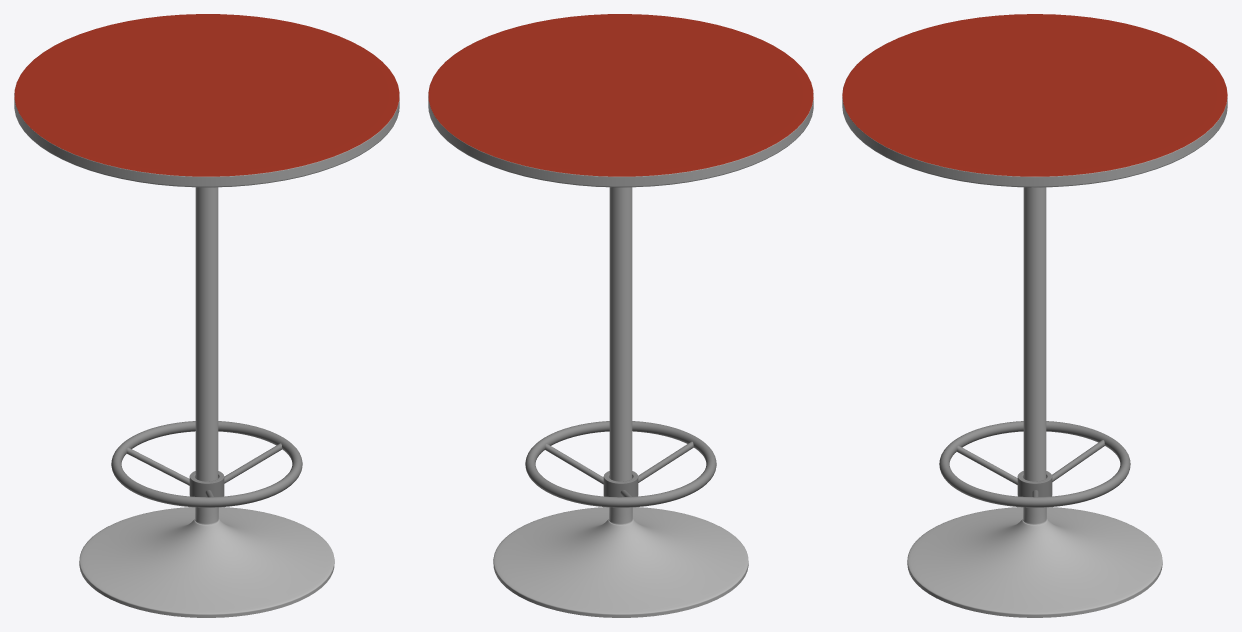
File: PubTable.fbx
The picture shows the model from 3 angles, left to right: view 1: azimuth 30°, elevation 25°; view 2: azimuth 150°, elevation 25°; view 3: azimuth 270°, elevation 25°; orthographic projection.
Visible parts, largest first — view 1: Pub Table; view 2: Pub Table; view 3: Pub Table.
Boxes of the visible parts, bbox=[...] form: Pub Table: bbox=[14, 14, 399, 617]; Pub Table: bbox=[428, 14, 813, 617]; Pub Table: bbox=[842, 14, 1227, 617].
Size of the model in its own units: 76.73 by 103 by 76.73.
